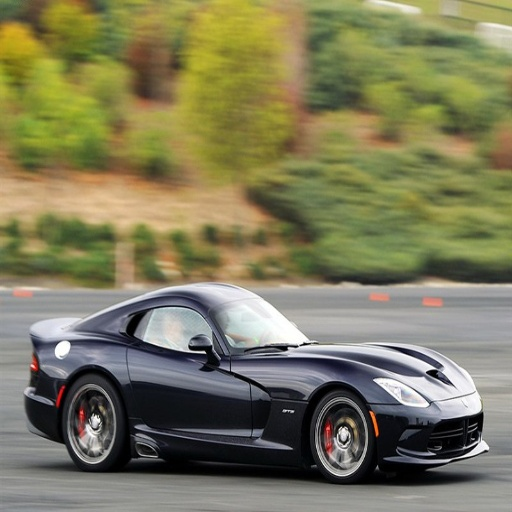front_bumper: (371, 392, 482, 465)
front_glass: (216, 289, 300, 349)
front_right_door: (164, 298, 251, 439)
